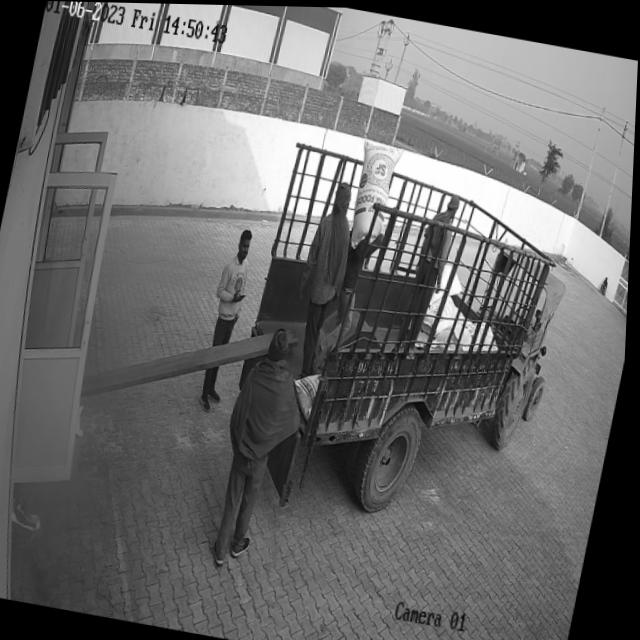sack: (344, 136, 405, 252)
